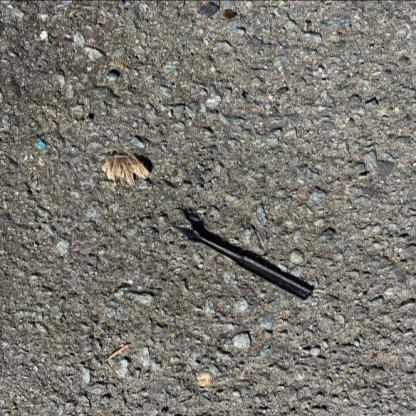Broken glass: (224, 10, 236, 19), (278, 87, 287, 93), (373, 352, 378, 357), (350, 83, 355, 86), (10, 407, 13, 410)
Other litter: (171, 225, 314, 300)
Other plastic: (37, 139, 46, 148), (40, 30, 48, 40)
